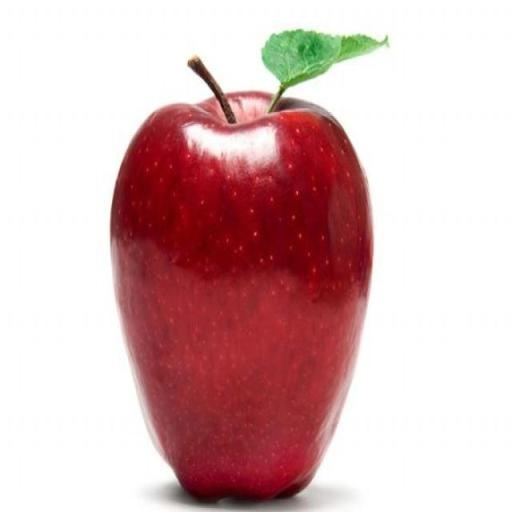fruit: (111, 92, 371, 499)
